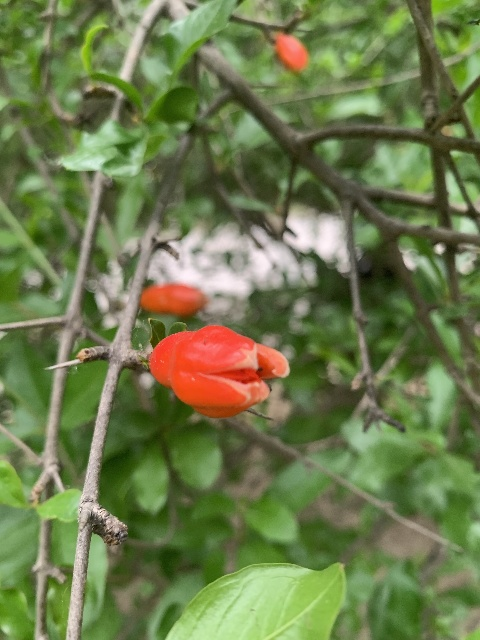bud: (140, 283, 208, 321), (273, 33, 309, 73)
flower: (148, 325, 289, 418)
